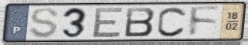3: (60, 6, 90, 40)
B: (124, 6, 157, 38)
C: (156, 6, 189, 39)
E: (91, 6, 126, 39)
F: (189, 5, 222, 38)
S: (27, 7, 60, 40)
